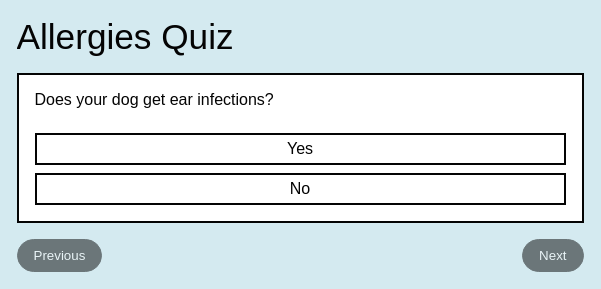
Test: index page › should render list, previous button should be disabled
Expected: the heading "Allergies Quiz" is shown, [16,16,234,56]
Expected: the text "Does your dog get ear infections?" is shown, [34,90,274,108]
Click the text "Yes" at (300, 148), box [287,140,313,158]
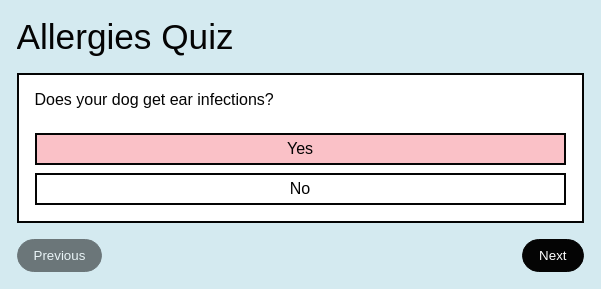
Expected: the button "Next" is enabled, [522,238,584,272]
